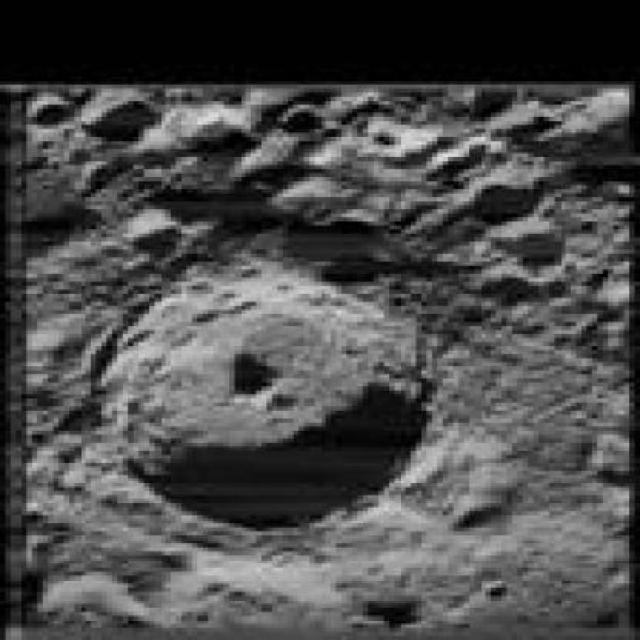crater: (100, 256, 446, 529)
